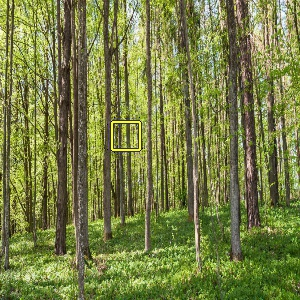square: (109, 118, 144, 153)
